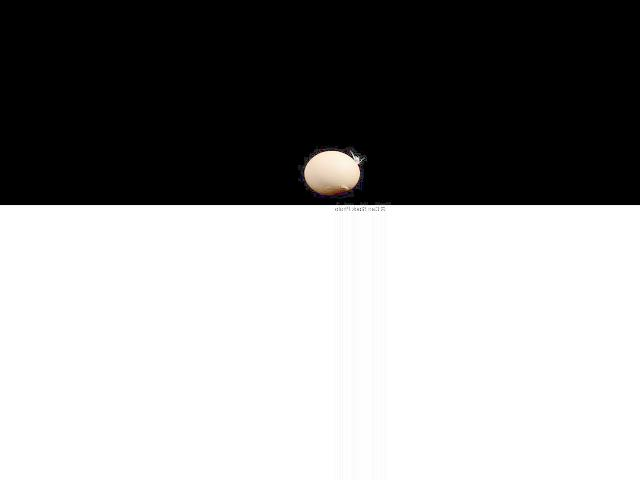egg: (303, 151, 359, 195)
